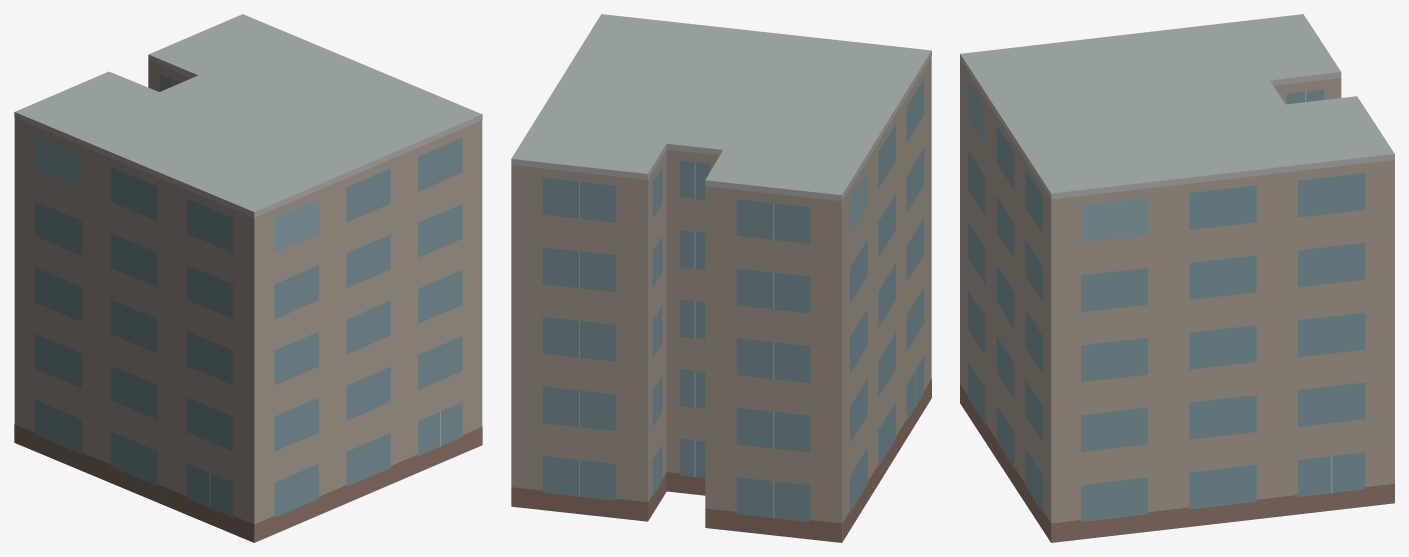
File: survey-upis-32654535.glb
3 renders of one model, left to right at view 1: azimuth 30°, elevation 25°; view 2: azimuth 150°, elevation 25°; view 3: azimuth 270°, elevation 25°, orthographic. The views are drawn at different scales.
Parts seen in each view (by area): view 1: survey-upis-32654535.tmp; view 2: survey-upis-32654535.tmp; view 3: survey-upis-32654535.tmp.
Part boxes in pixels (x1,y1,x2,y2): survey-upis-32654535.tmp: (14,14,482,542); survey-upis-32654535.tmp: (511,14,931,542); survey-upis-32654535.tmp: (960,14,1394,542).
Size of the model in its own units: 15.78 by 14.3 by 16.14.
